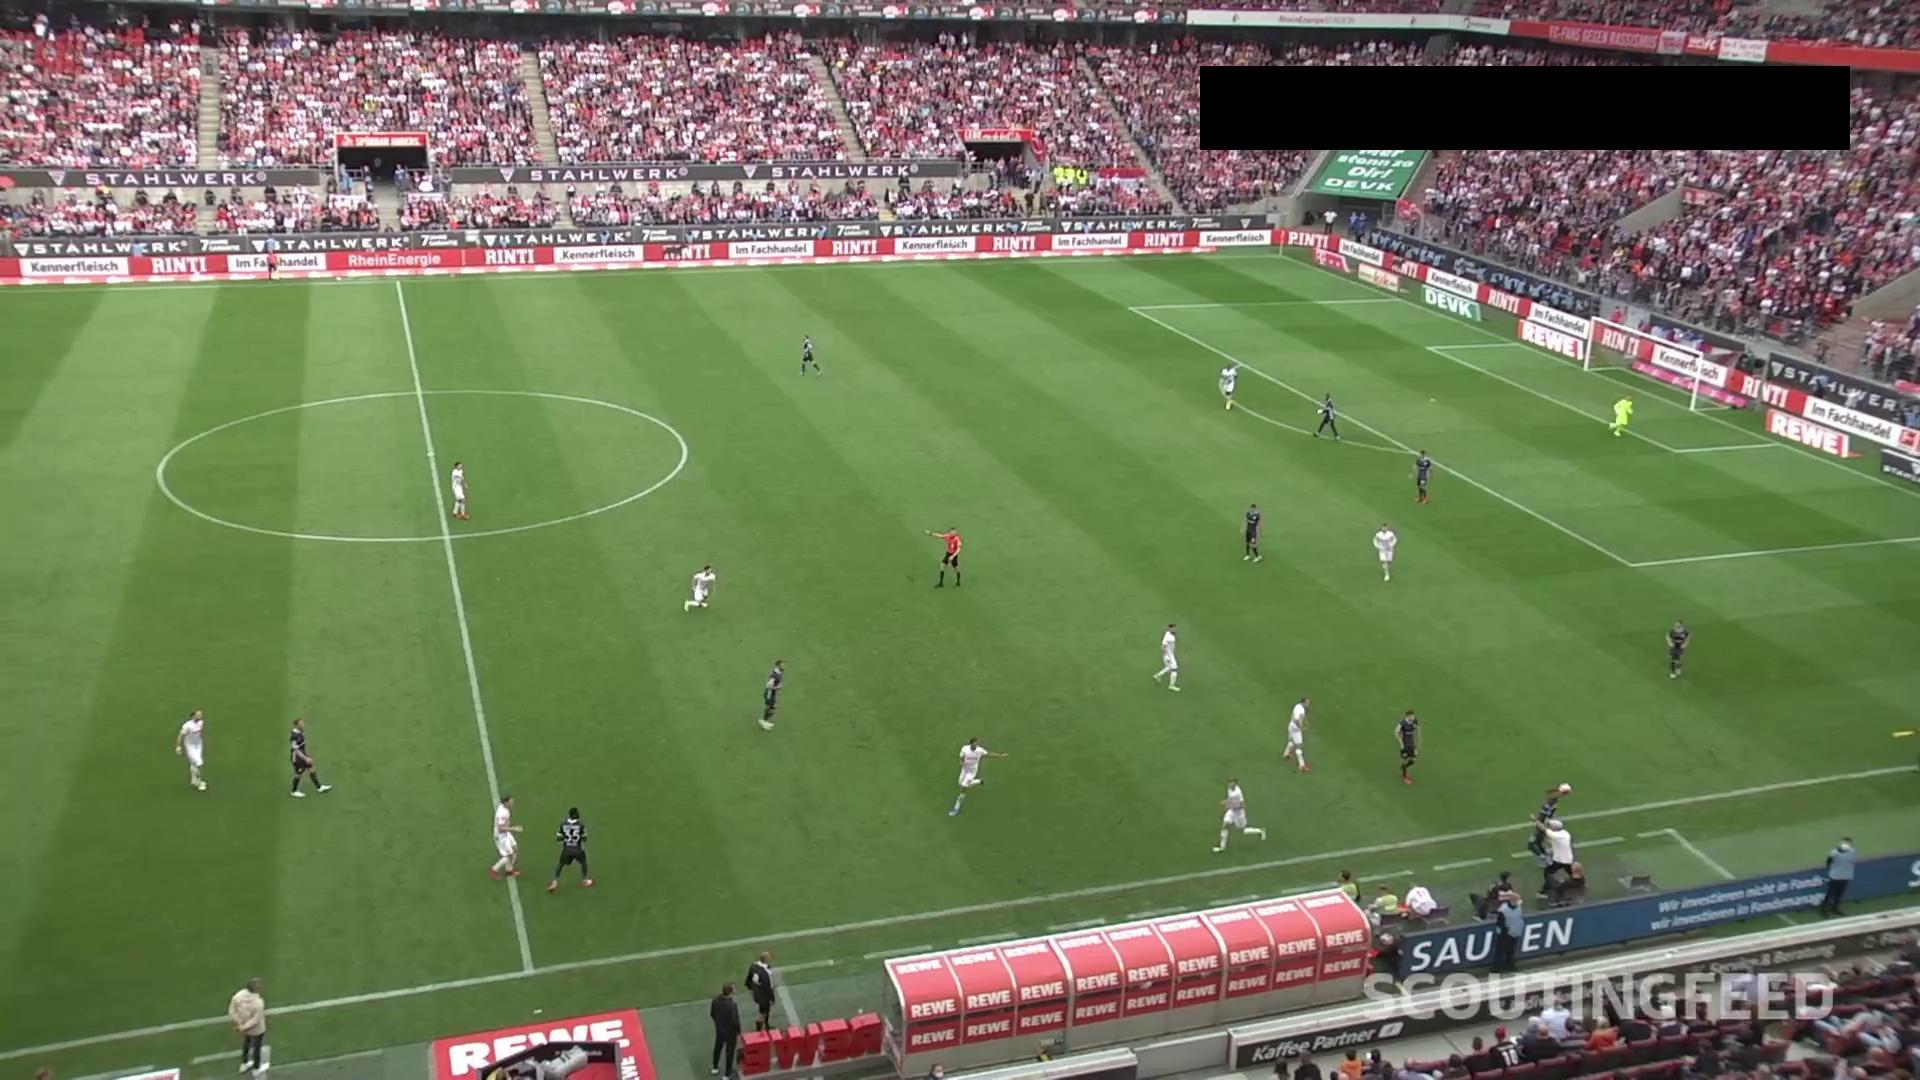Location-of-ball: (1556, 777, 1573, 795)
